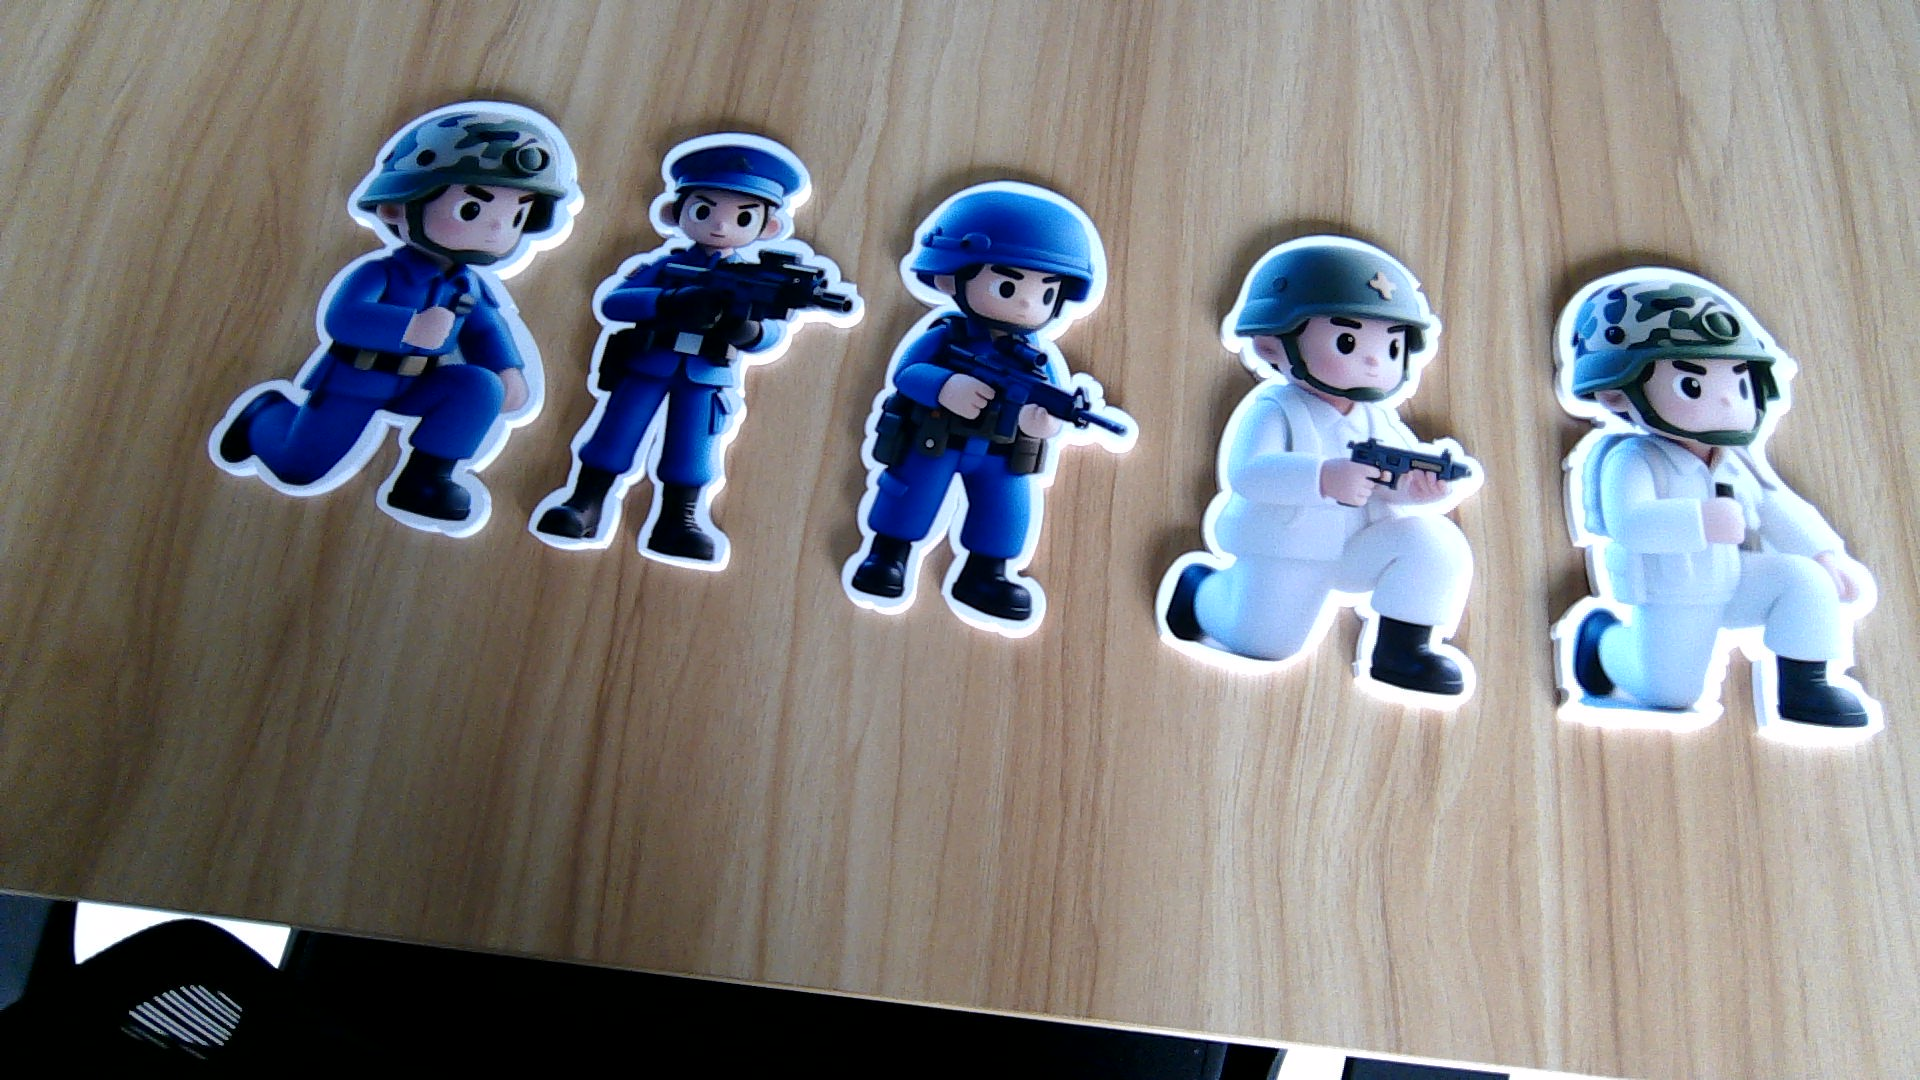人质: (1547, 429, 1904, 746), (1154, 396, 1481, 705)
敌人2: (196, 252, 527, 537), (539, 240, 806, 574), (839, 315, 1112, 630)
